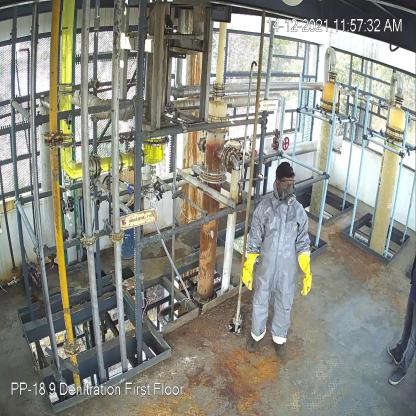goggles: (280, 177, 294, 187)
mask: (279, 184, 295, 206)
